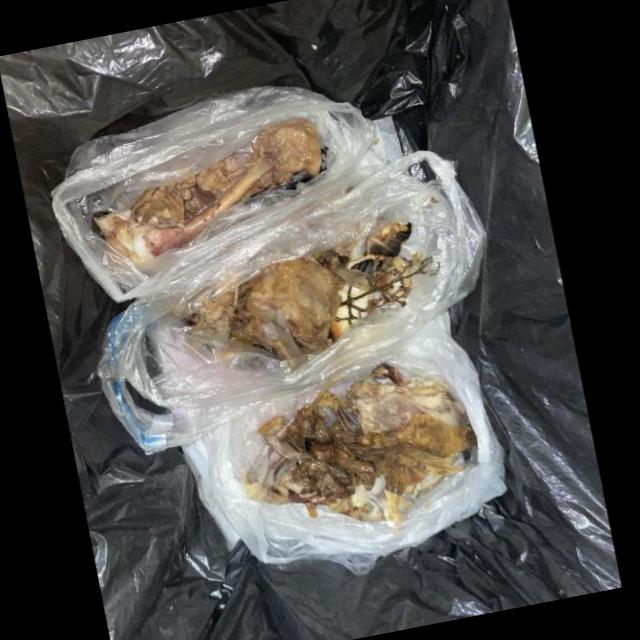thuc_an_thua: (244, 362, 478, 522), (94, 117, 323, 263), (194, 255, 343, 358)
